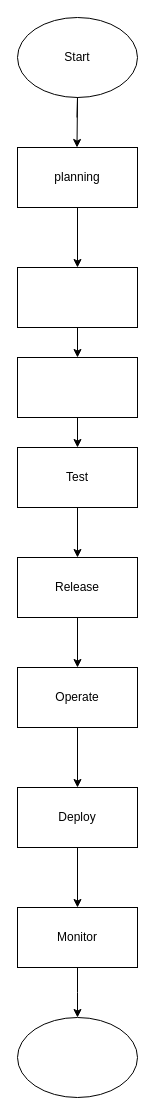
The diagram is 155 pixels wide and 1115 high, and some of its shapes have lost their labels. The box of each missing label's shape, as (x1, y1, x2, y2) in pixels:
Bulid: (16, 356, 138, 418)
Develop: (16, 266, 138, 328)
Stop: (16, 1016, 138, 1098)
